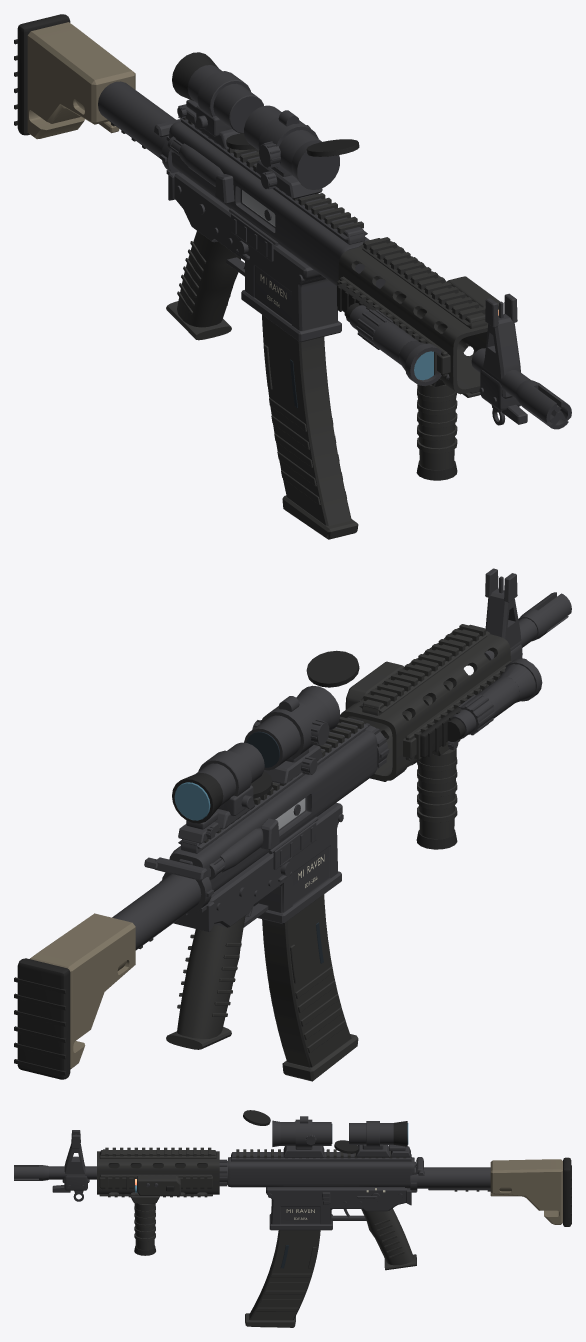
File: raven.glb
The picture shows the model from 3 angles, top to bottom: view 1: azimuth 30°, elevation 25°; view 2: azimuth 150°, elevation 25°; view 3: azimuth 270°, elevation 25°; orthographic projection. The views are drawn at different scales.
Visible parts, largest first — view 1: Body, opt_scope, opt_laser; view 2: Body, opt_scope, opt_laser; view 3: Body, opt_scope, opt_laser.
Boxes of the visible parts, x1,y1,x2,y2 form: Body: (14, 14, 571, 539); opt_scope: (172, 52, 263, 149); opt_laser: (447, 276, 500, 315); Body: (14, 568, 571, 1081); opt_scope: (172, 742, 264, 829); opt_laser: (345, 661, 403, 709); Body: (14, 1110, 571, 1327); opt_scope: (349, 1121, 408, 1157); opt_laser: (135, 1175, 180, 1195).
Bounding box in the file's own units: 0.1153 × 0.3384 × 0.808.
